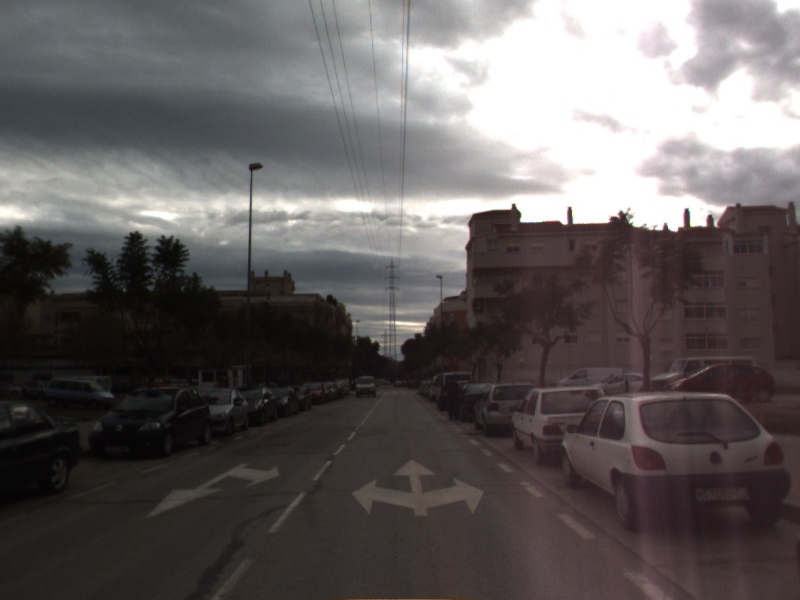STRAIGHT_LEFT_RIGHT: (349, 457, 487, 518)
